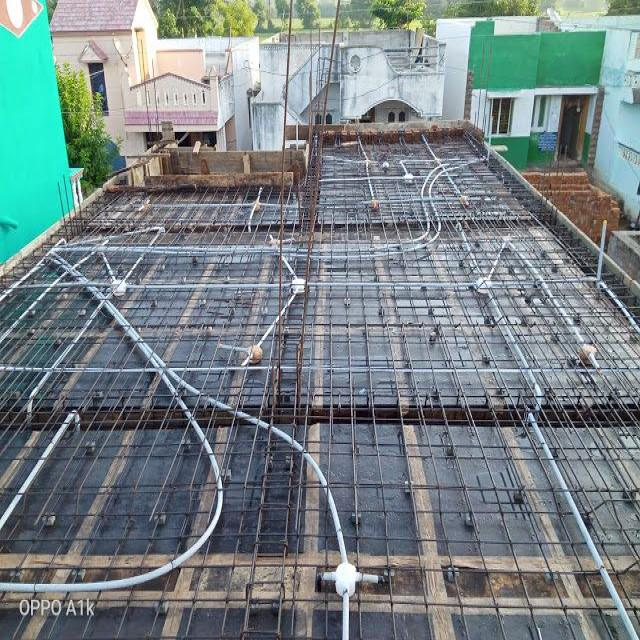Plumbing and Electrical: (48, 146, 519, 632)
